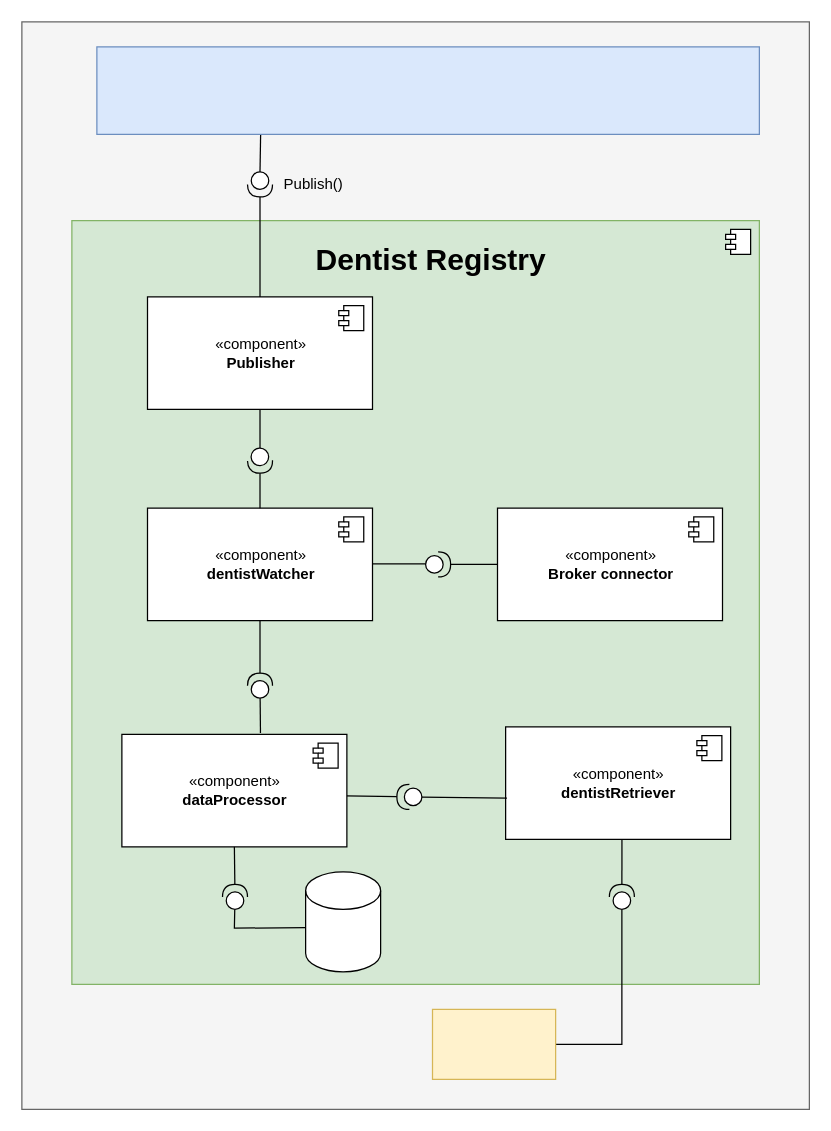
The diagram is 831 pixels wide and 1131 high, and some of its shapes have lost their labels. Each missing label, with the centre of its shape:
"Dentist Repository API" goes at point (493, 1043).
"dentists json" goes at point (342, 921).
"Mosquitto Broker" goes at point (427, 90).
